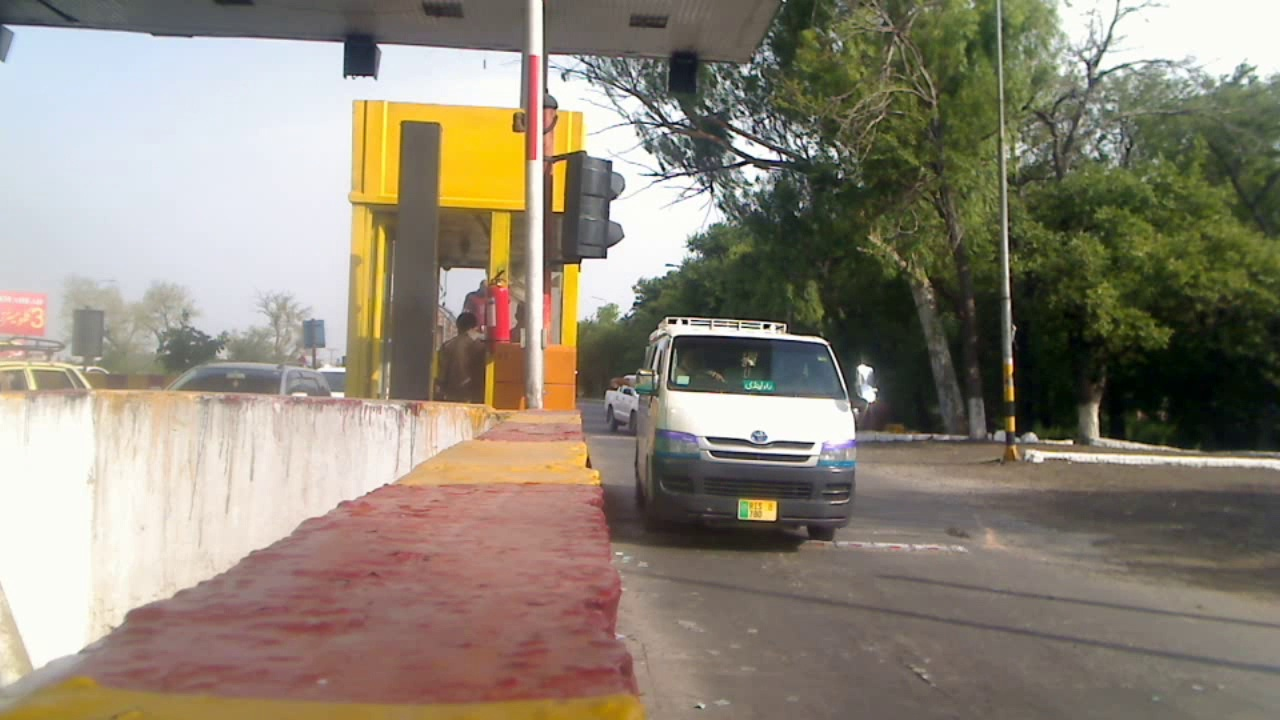Number Plate (Car): (739, 498, 775, 519)
